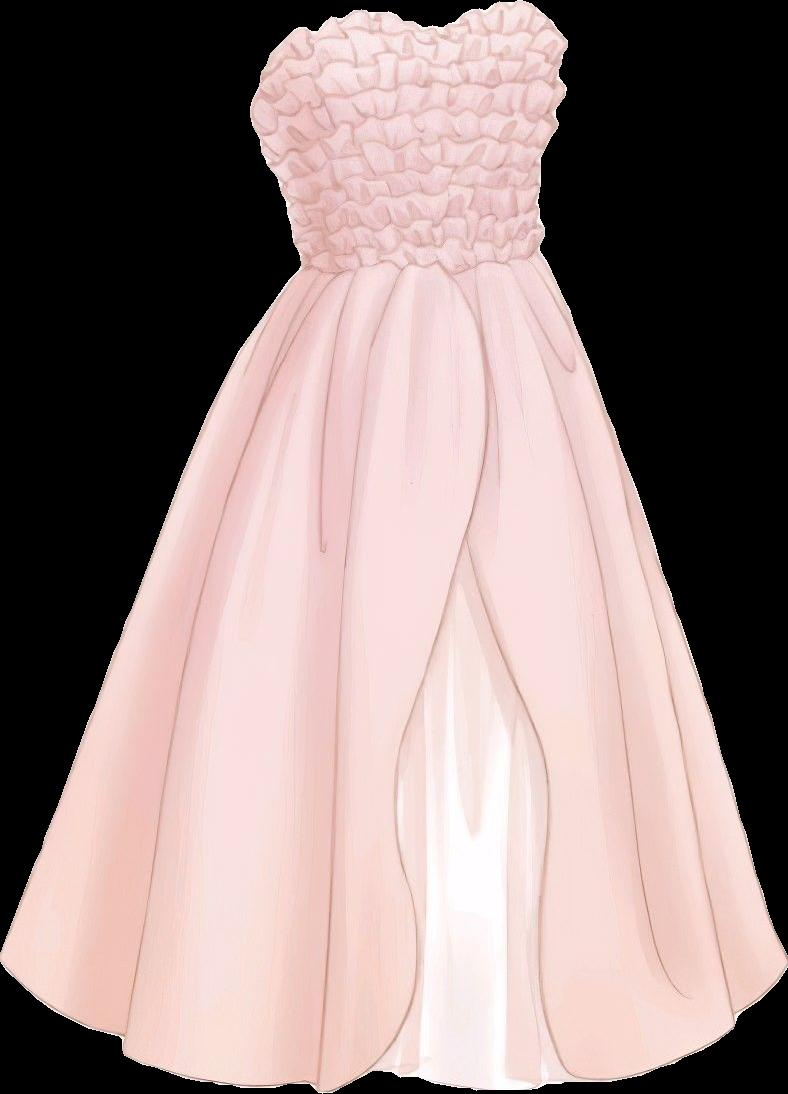Bodice: (250, 0, 567, 280)
Hemline: (0, 279, 501, 1093), (464, 551, 787, 1091), (378, 1057, 573, 1093)
Neckline: (243, 0, 569, 125)
Skirt: (0, 256, 787, 1091)
Waistline: (293, 247, 553, 289)
